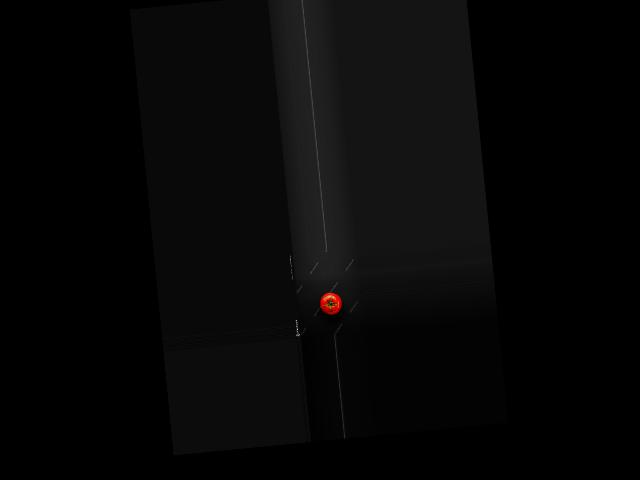tomato: (318, 291, 342, 315)
